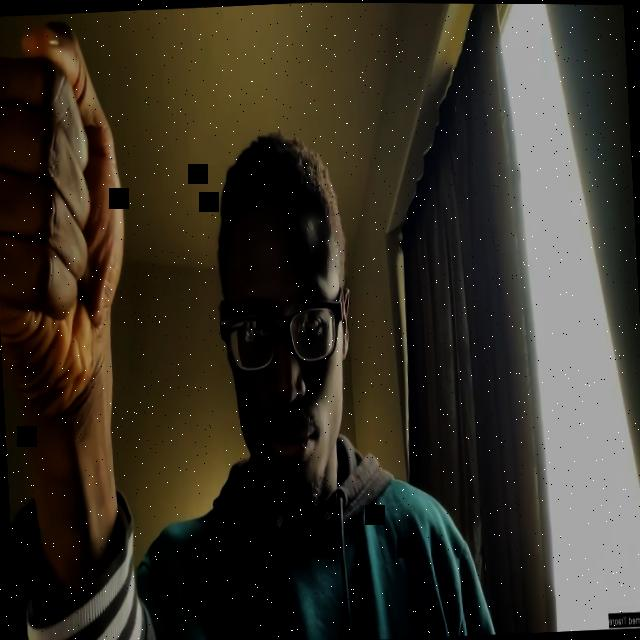Rock: (0, 13, 136, 422)
